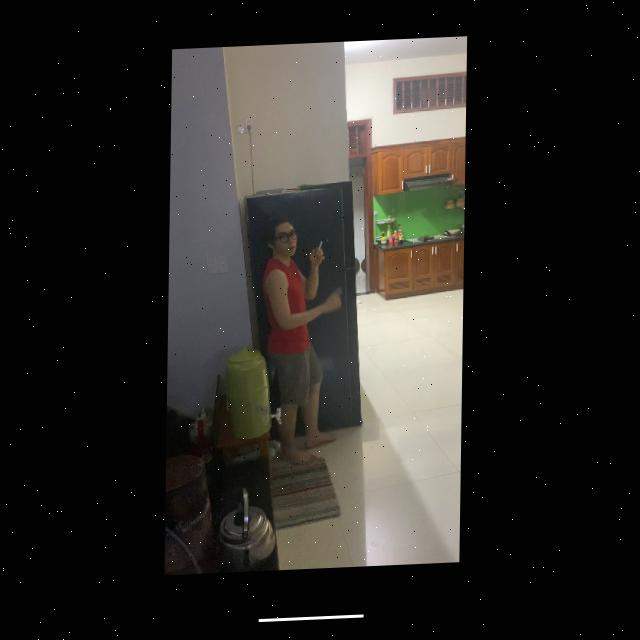cigarette: (317, 243, 323, 252)
